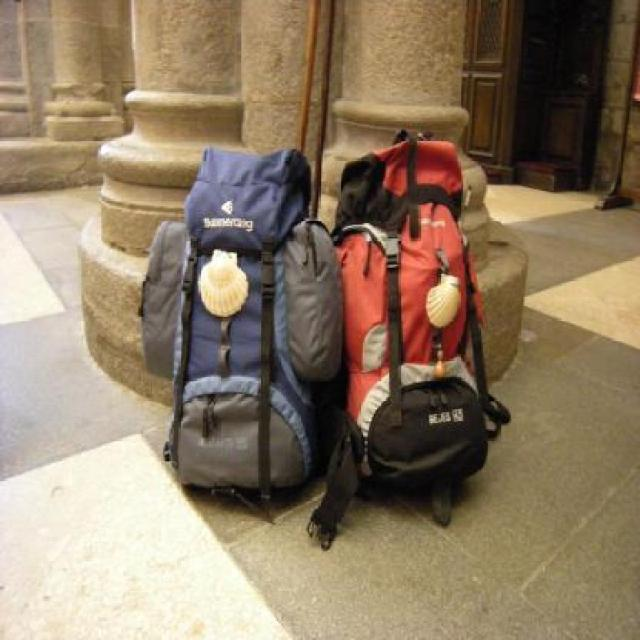backpack: (138, 135, 338, 520), (334, 129, 498, 531)
